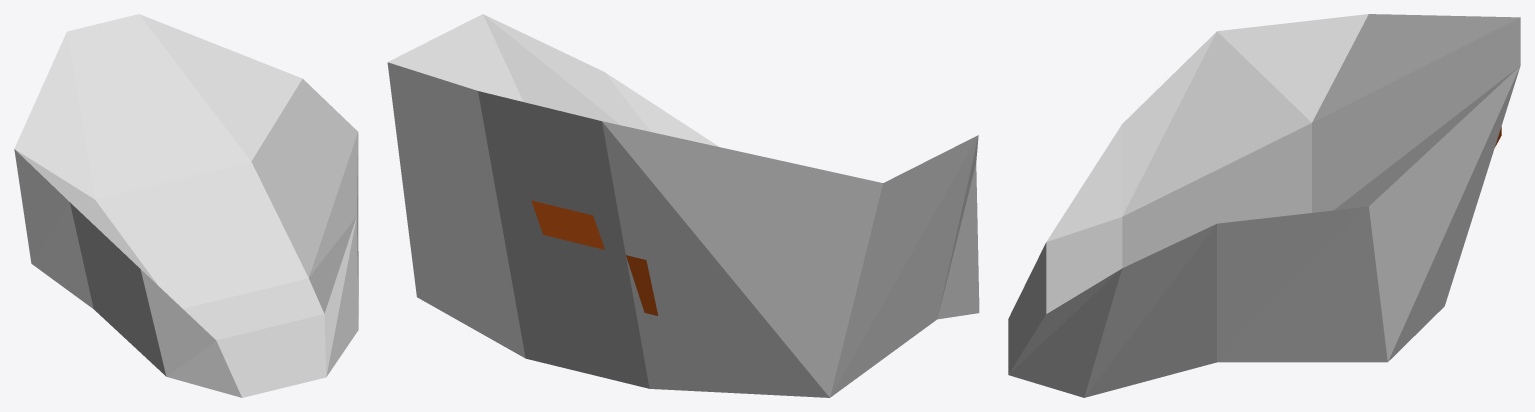
The model's file is npc_world_tafani_7.obj.
3 renders of one model, left to right at view 1: azimuth 30°, elevation 25°; view 2: azimuth 150°, elevation 25°; view 3: azimuth 270°, elevation 25°, orthographic. The views are drawn at different scales.
Size of the model in its own units: 0.1875 by 0.1406 by 0.2109.
